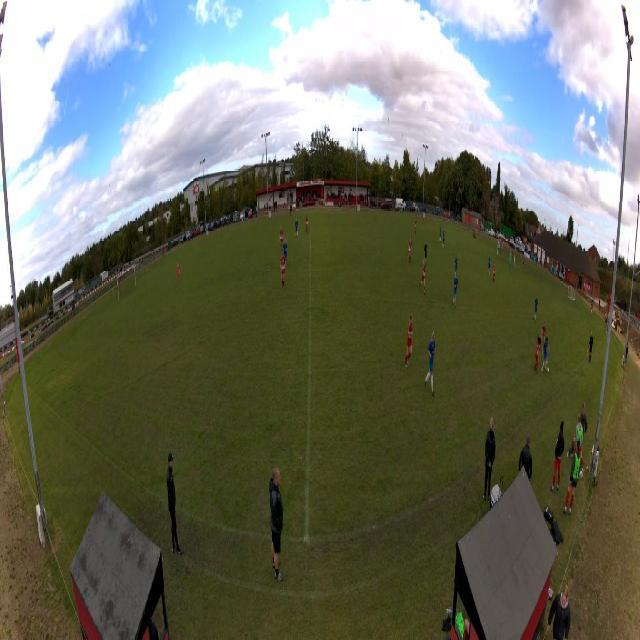ball: (547, 366, 549, 374)
player: (425, 331, 436, 398), (404, 313, 413, 368), (541, 336, 550, 373), (534, 336, 541, 374), (419, 259, 426, 295), (280, 252, 286, 291), (283, 239, 288, 268), (533, 295, 538, 324), (454, 274, 458, 309), (541, 322, 546, 350), (408, 237, 413, 264), (424, 240, 428, 267), (279, 227, 283, 253), (455, 253, 459, 279), (487, 254, 491, 278), (177, 261, 181, 282), (295, 217, 299, 237), (305, 215, 309, 234), (493, 261, 496, 286), (442, 230, 445, 249), (414, 217, 417, 234), (510, 251, 512, 270), (439, 225, 441, 242)
